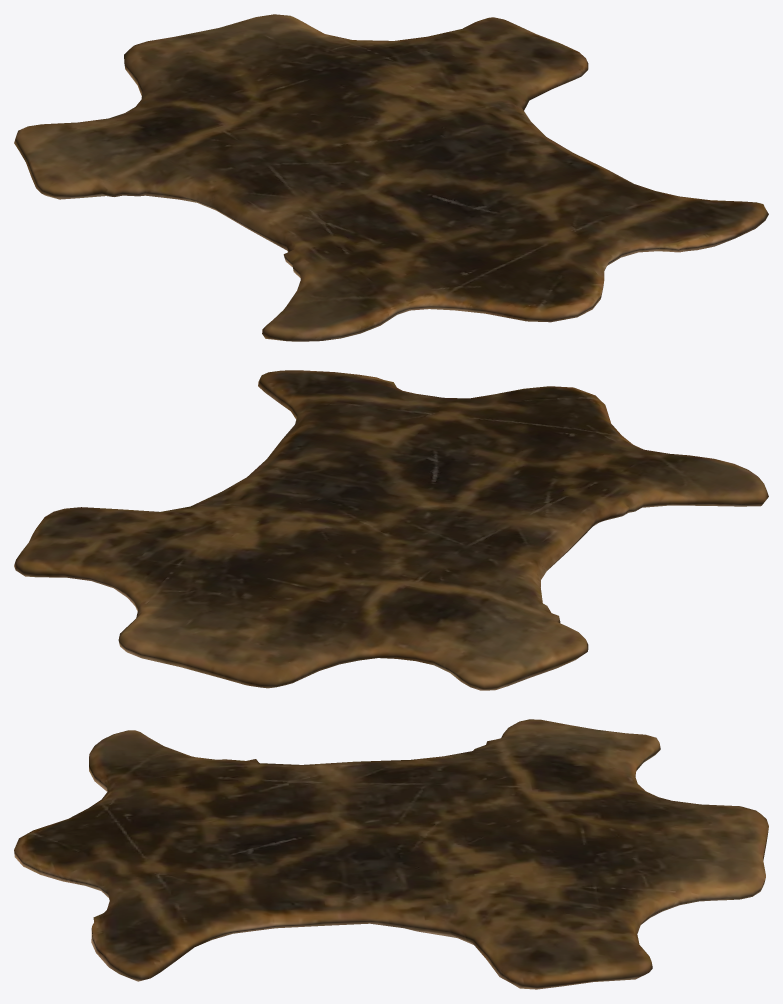
The picture shows the model from 3 angles, top to bottom: view 1: azimuth 30°, elevation 25°; view 2: azimuth 150°, elevation 25°; view 3: azimuth 270°, elevation 25°; orthographic projection.
Parts seen in each view (by area): view 1: SM_Scorch_Leather_01_LOD0; view 2: SM_Scorch_Leather_01_LOD0; view 3: SM_Scorch_Leather_01_LOD0.
Boxes of the visible parts, x1,y1,x2,y2 form: SM_Scorch_Leather_01_LOD0: [14, 14, 768, 341]; SM_Scorch_Leather_01_LOD0: [14, 370, 768, 690]; SM_Scorch_Leather_01_LOD0: [14, 719, 768, 989].
Bounding box in the file's own units: 0.6461 × 0.0442 × 0.7842.
Materials: 1 (1 with a texture image).
